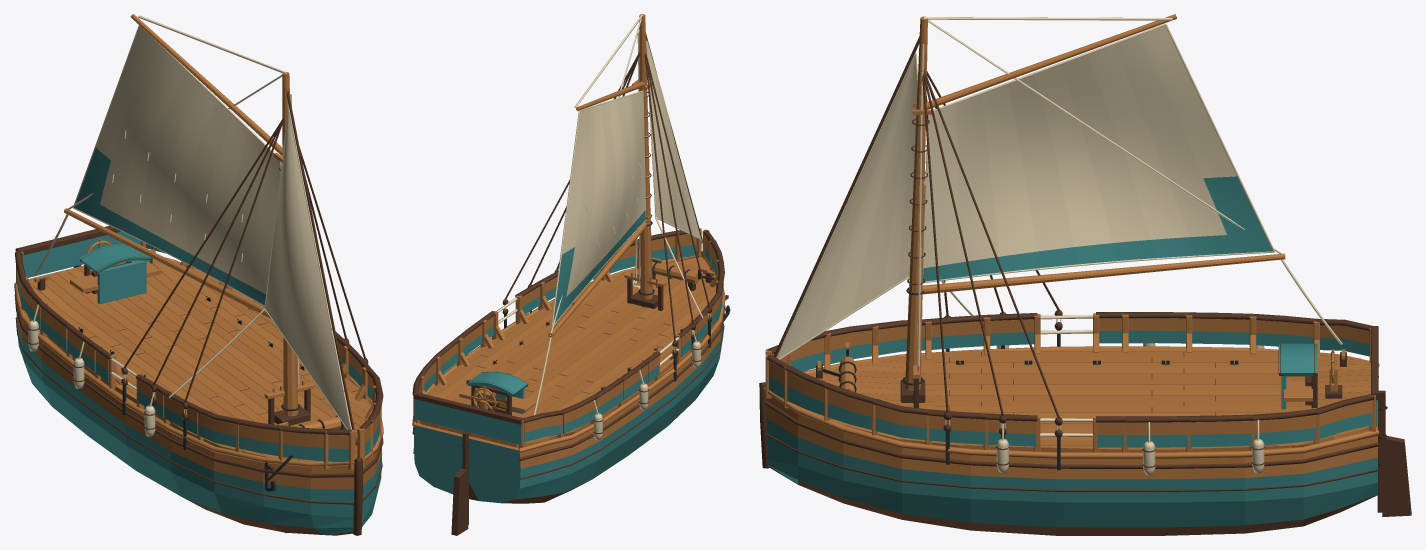
File: boat_trading_ship_a.glb
3 views of the same model, side by side, from view 1: azimuth 30°, elevation 25°; view 2: azimuth 150°, elevation 25°; view 3: azimuth 270°, elevation 25° (orthographic). The views are drawn at different scales.
Parts seen in each view (by area): view 1: boat_trading_ship_a_hull, boat_trading_ship_a_bulwarks, boat_trading_ship_a_rig; view 2: boat_trading_ship_a_hull, boat_trading_ship_a_bulwarks, boat_trading_ship_a_rig; view 3: boat_trading_ship_a_hull, boat_trading_ship_a_bulwarks, boat_trading_ship_a_rig.
Part boxes in pixels (x1=…): boat_trading_ship_a_hull: x1=14, y1=14, x2=383, y2=535; boat_trading_ship_a_bulwarks: x1=28, y1=15, x2=351, y2=436; boat_trading_ship_a_rig: x1=34, y1=142, x2=344, y2=491; boat_trading_ship_a_hull: x1=412, y1=14, x2=728, y2=535; boat_trading_ship_a_bulwarks: x1=466, y1=14, x2=710, y2=439; boat_trading_ship_a_rig: x1=461, y1=221, x2=730, y2=489; boat_trading_ship_a_hull: x1=759, y1=14, x2=1411, y2=535; boat_trading_ship_a_bulwarks: x1=776, y1=17, x2=1342, y2=475; boat_trading_ship_a_rig: x1=793, y1=85, x2=1387, y2=470.
Bounding box in the file's own units: 5.24 × 10.45 × 12.26.
